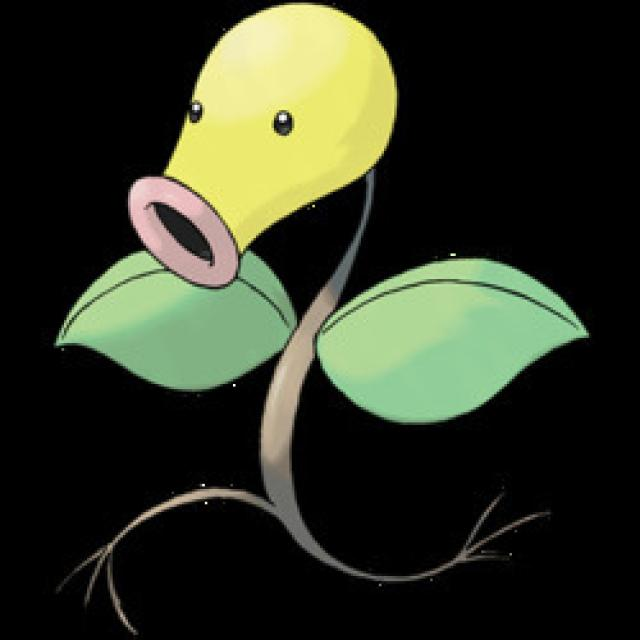Bellsprout: (121, 8, 419, 556)
